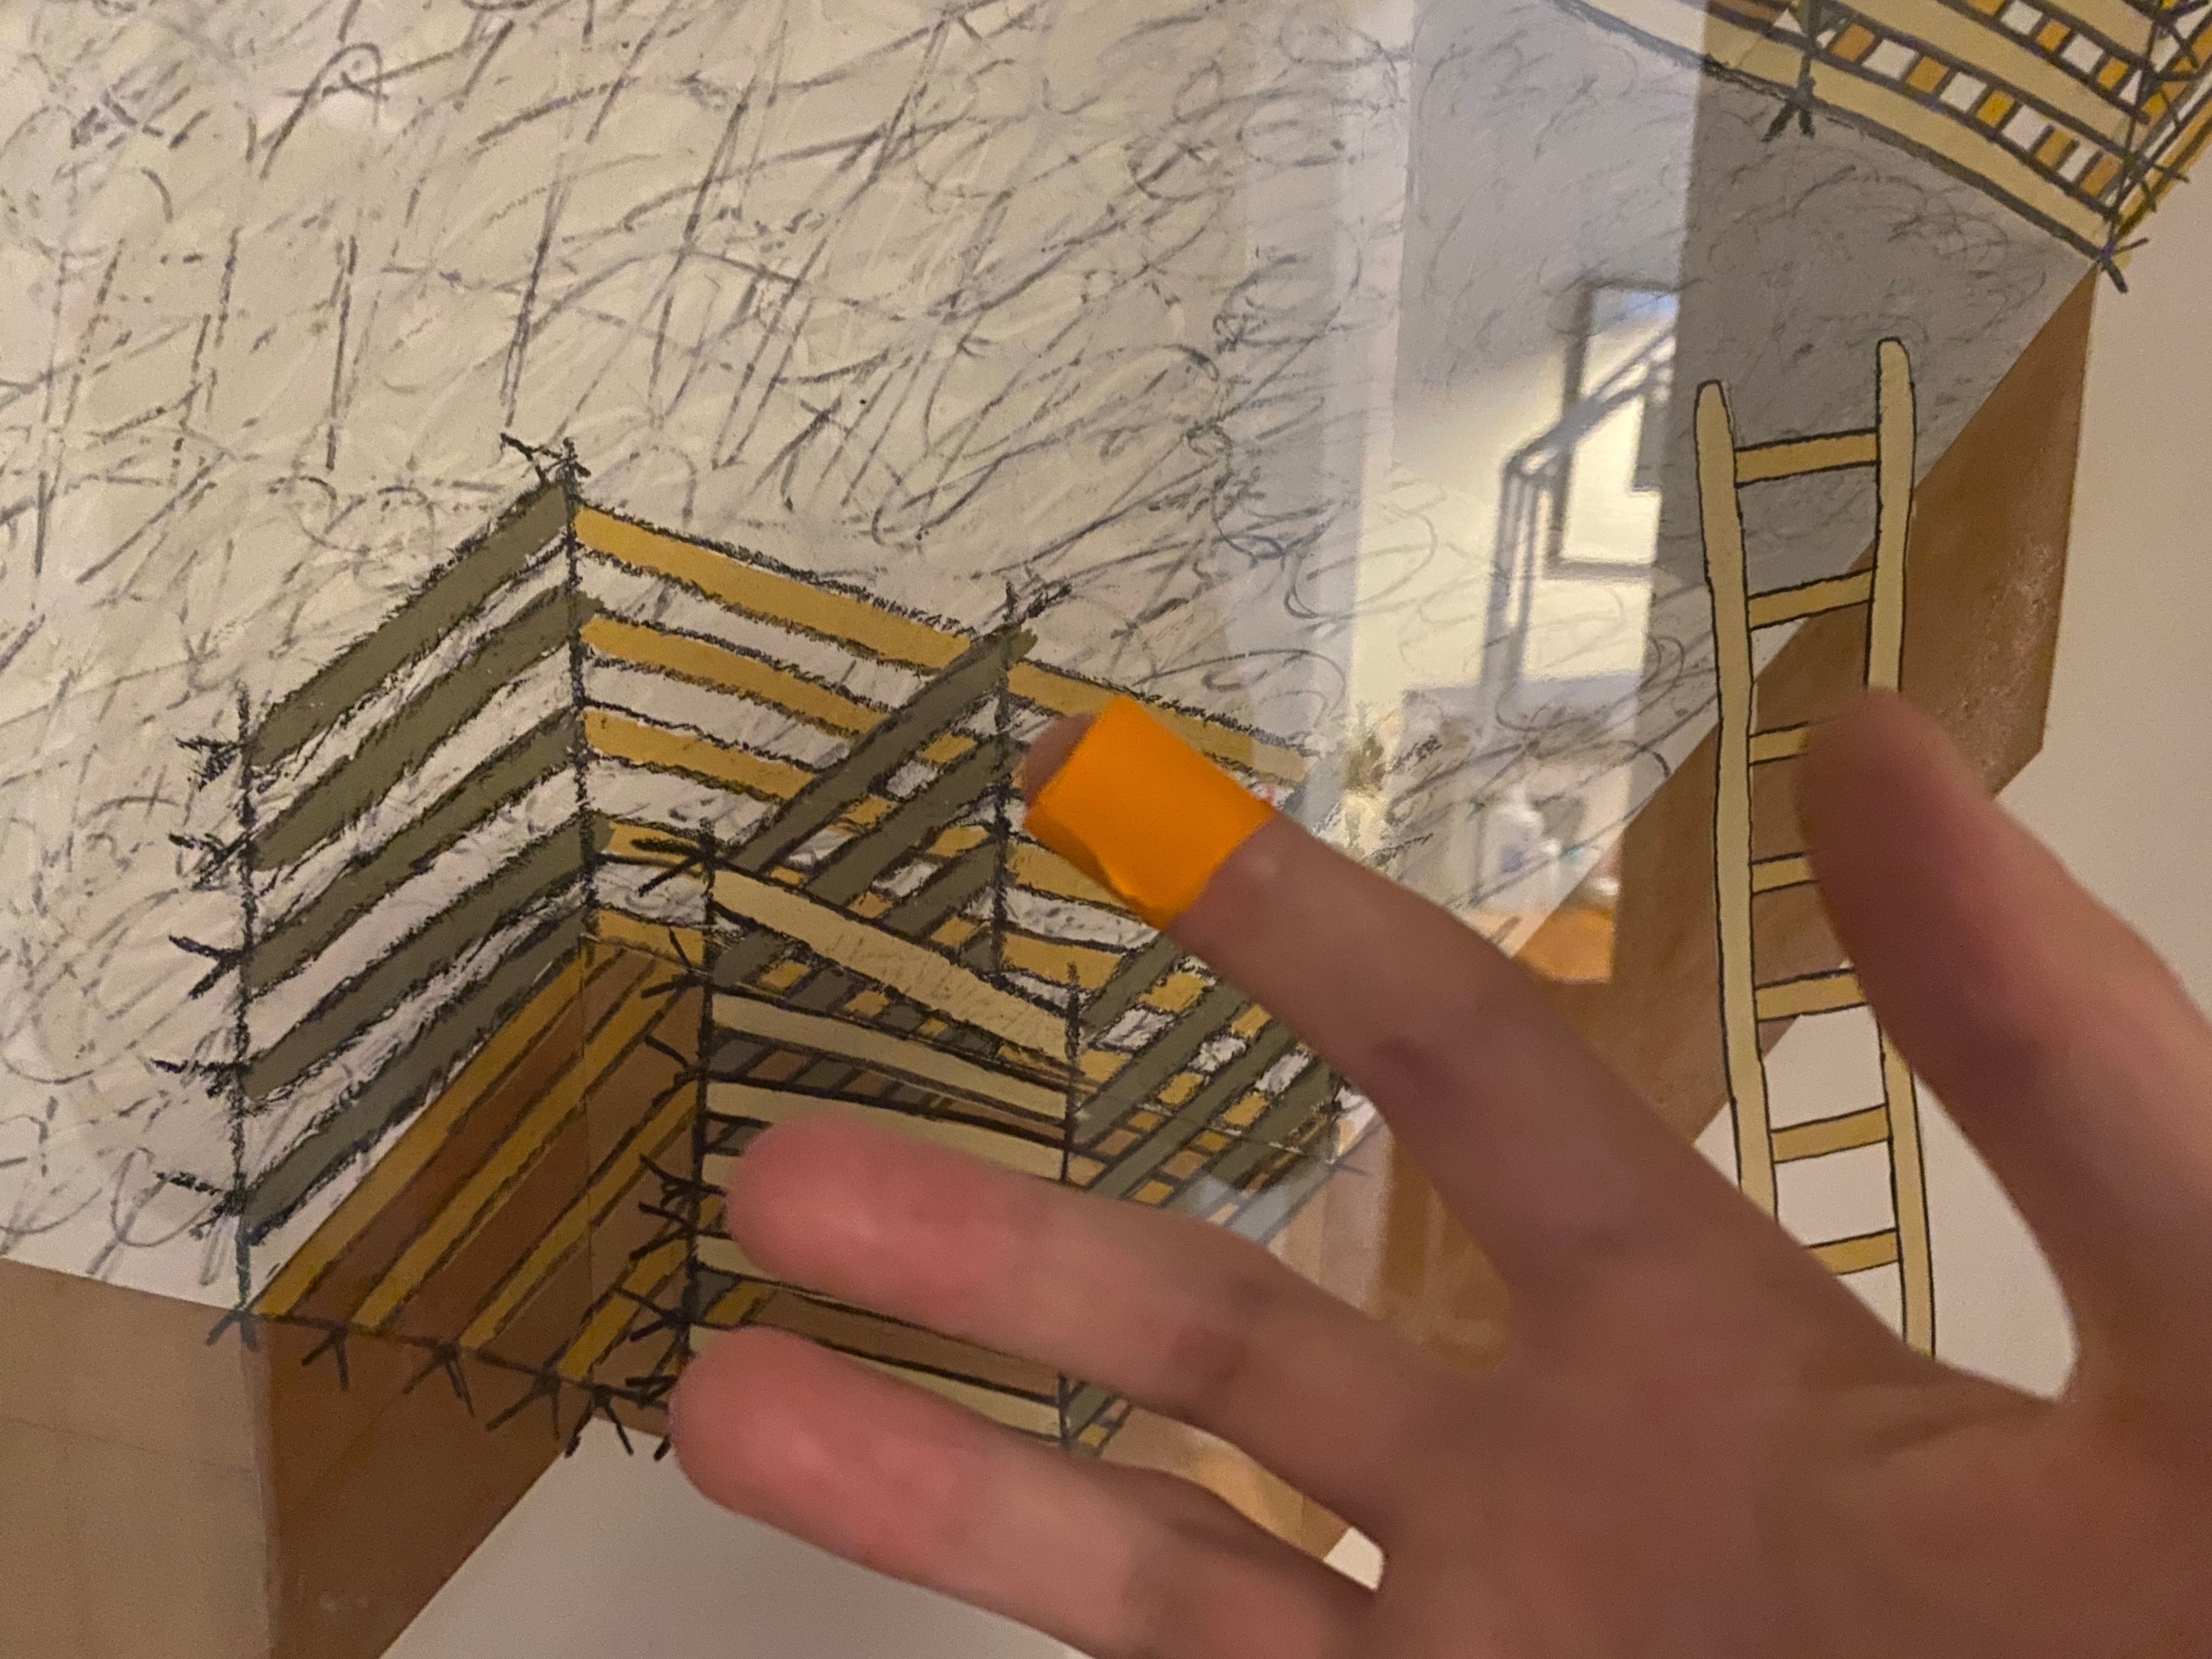fingertip: (1012, 687, 1315, 948)
